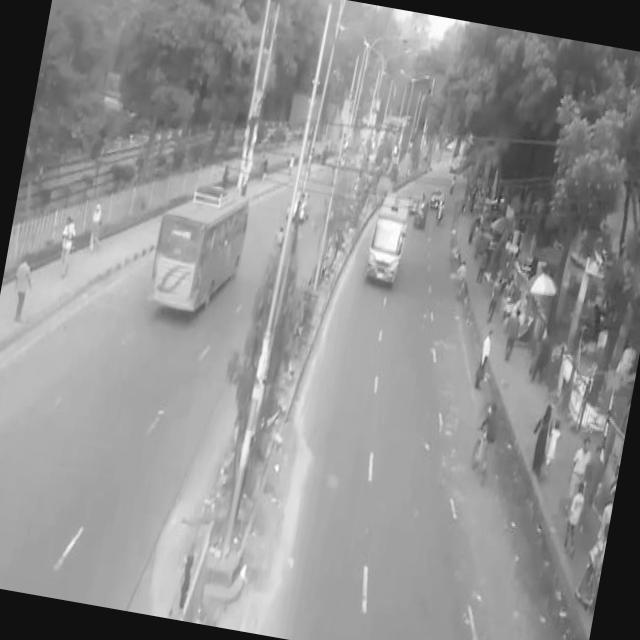bus: (141, 168, 254, 326), (361, 184, 414, 292)
motorcycle: (412, 190, 429, 230)
